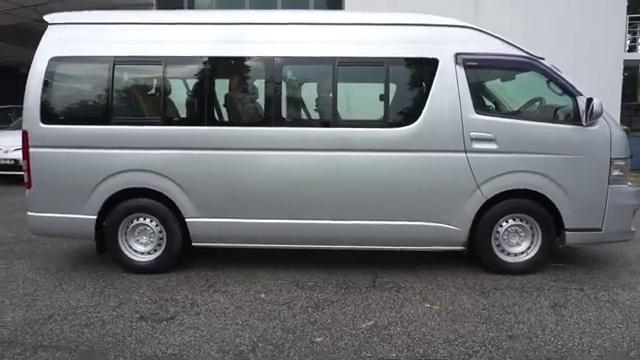van: (20, 9, 634, 268)
